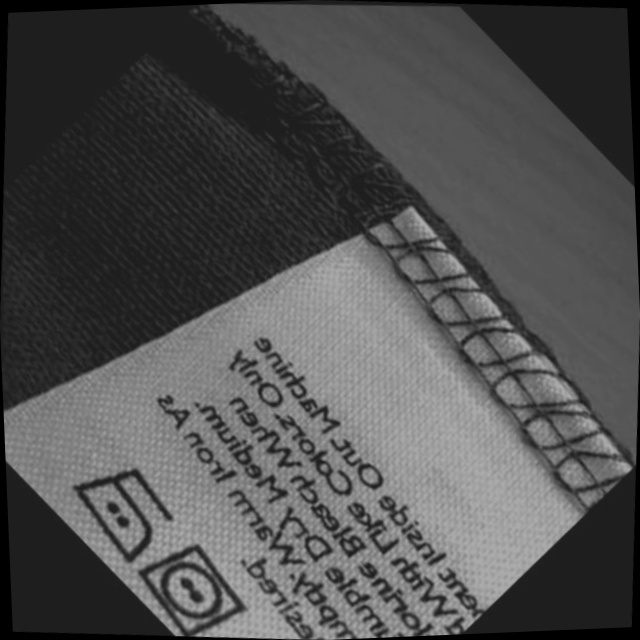iron_medium: (61, 461, 177, 566)
tumble_dry_medium: (130, 540, 250, 640)
